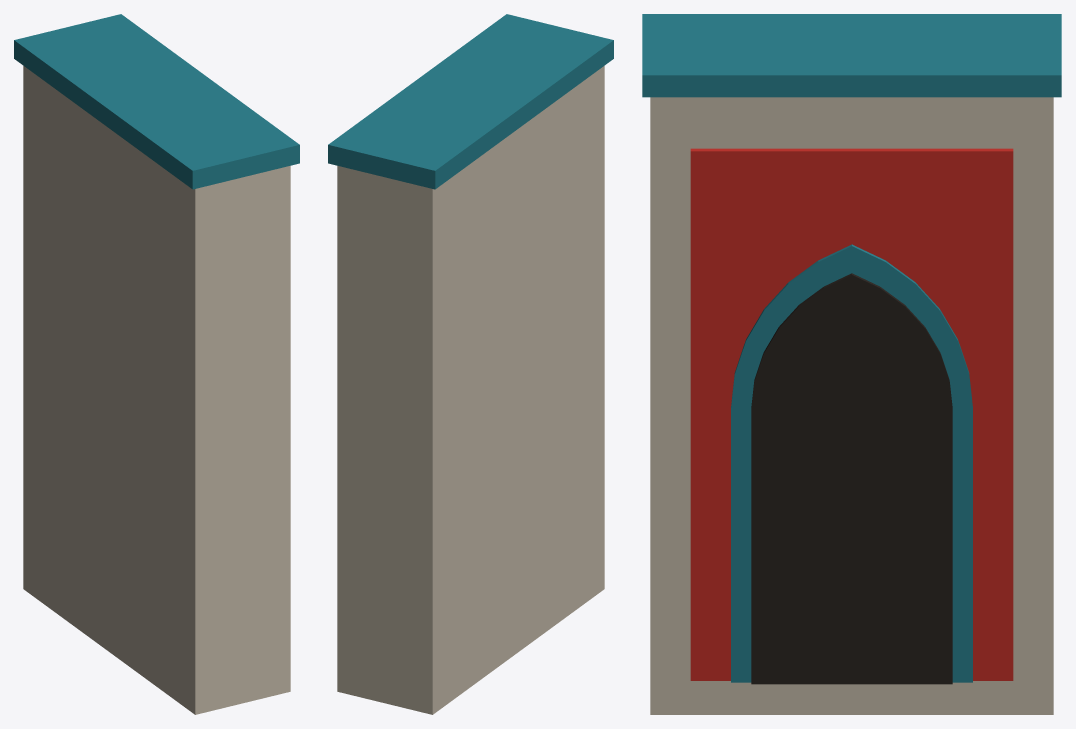
The model's file is portal.glb.
3 views of the same model, side by side, from view 1: azimuth 30°, elevation 25°; view 2: azimuth 150°, elevation 25°; view 3: azimuth 270°, elevation 25° (orthographic). The views are drawn at different scales.
Visible parts, largest first — view 1: portal; view 2: portal; view 3: portal.
Part boxes in pixels (box(x1,y1,x2,y2)): portal: box(14, 14, 299, 714); portal: box(328, 14, 613, 714); portal: box(642, 14, 1061, 714).
Size of the model in its own units: 0.375 by 1.76 by 1.04.
